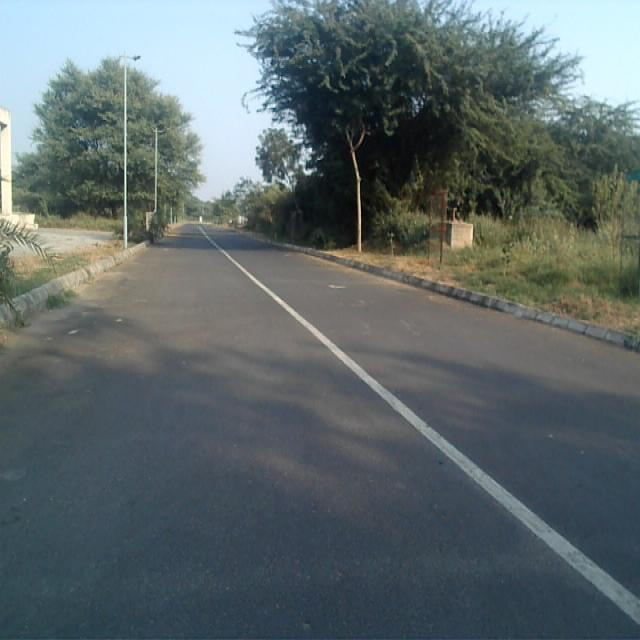lane: (0, 225, 640, 640)
